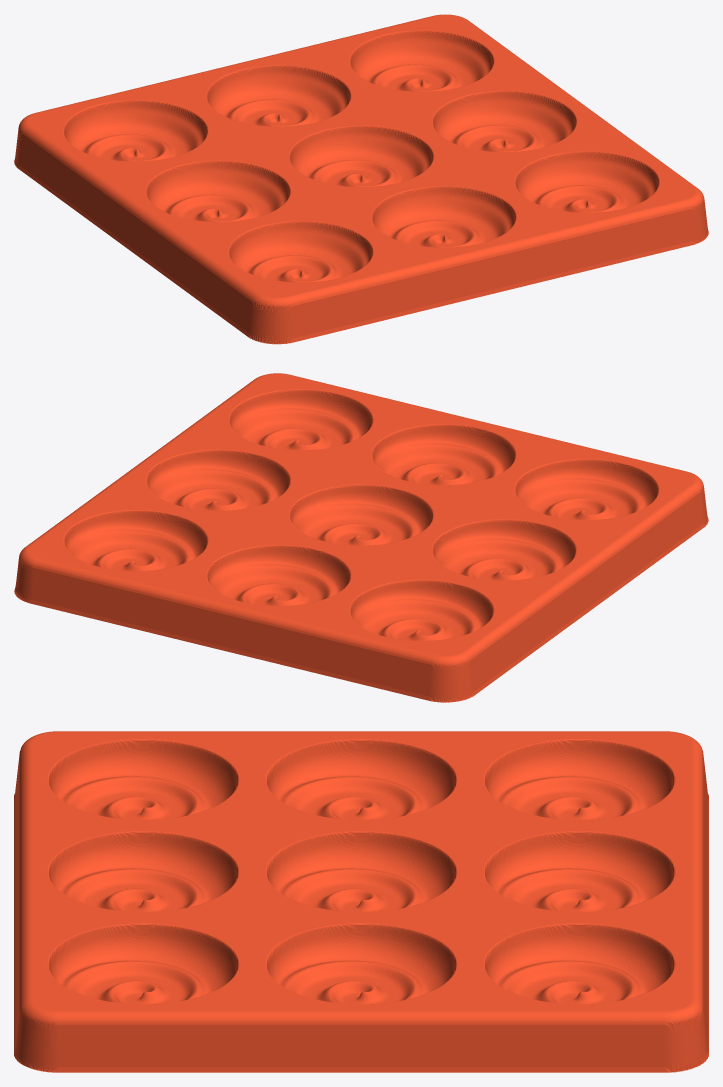
Rendered from mold.glb.
3 views of the same model, one above another, from view 1: azimuth 30°, elevation 25°; view 2: azimuth 150°, elevation 25°; view 3: azimuth 270°, elevation 25° (orthographic). The views are drawn at different scales.
Parts seen in each view (by area): view 1: geometry_0; view 2: geometry_0; view 3: geometry_0.
Part boxes in pixels (left/top/right/bottom): geometry_0: left=14, top=14, right=708, bottom=344; geometry_0: left=14, top=373, right=708, bottom=702; geometry_0: left=14, top=731, right=708, bottom=1072.
Size of the model in its own units: 0.1409 by 0.0121 by 0.1409.
